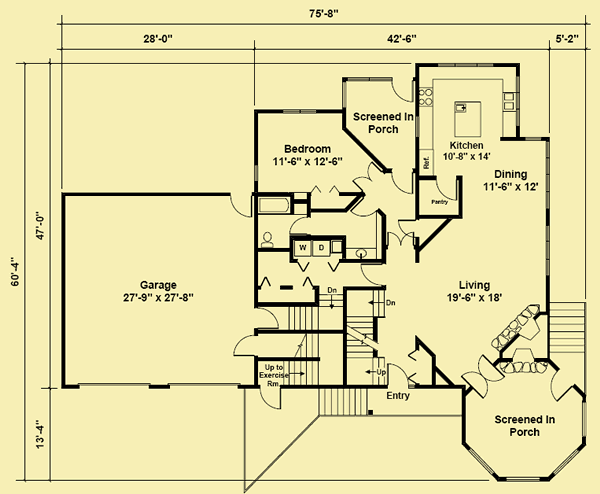door: (353, 161, 383, 192), (358, 261, 387, 286), (549, 370, 571, 402), (387, 360, 411, 389), (229, 333, 256, 358), (349, 198, 378, 221), (392, 77, 417, 103), (230, 193, 254, 220), (389, 171, 415, 195), (436, 176, 459, 203), (259, 386, 283, 411)
kitchen_bar: (450, 99, 484, 140)
large_sink: (259, 227, 276, 249)
small_sink: (347, 245, 376, 260)
stairs: (346, 289, 385, 358), (550, 300, 586, 352), (316, 389, 377, 419), (280, 356, 323, 385), (279, 305, 322, 330)
tub: (255, 197, 290, 217)
twin_sink: (502, 91, 518, 112)
window: (280, 108, 319, 114), (503, 475, 540, 480)
